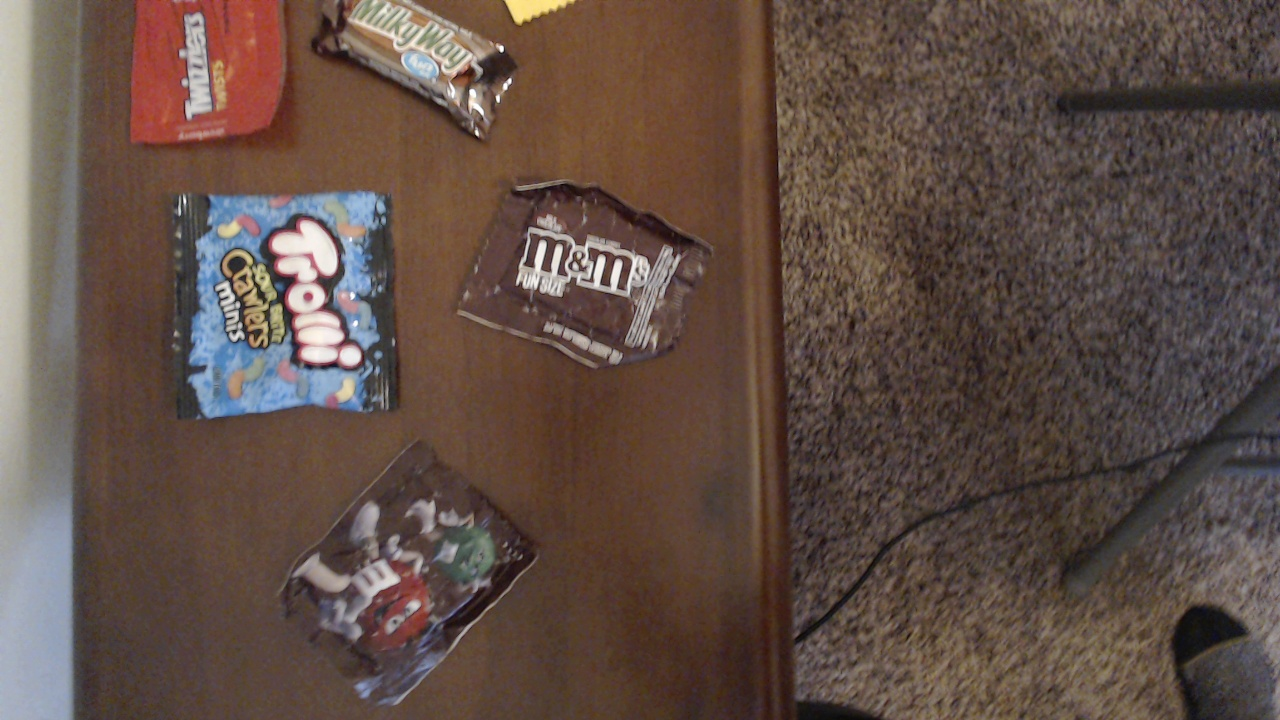MMs_peanut: (281, 430, 585, 702), (458, 159, 718, 388)
gummy_worms: (160, 178, 422, 403)
milky_way: (315, 0, 552, 147)
twizzlers: (110, 0, 328, 147)
